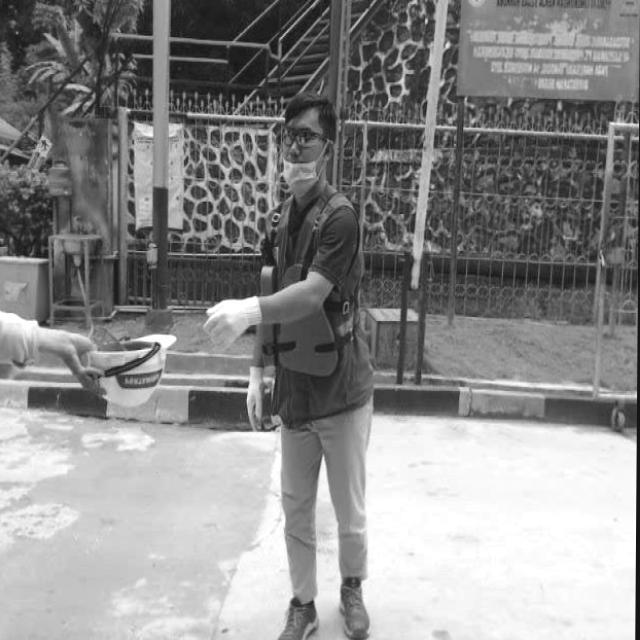goggles_on: (279, 120, 337, 150)
